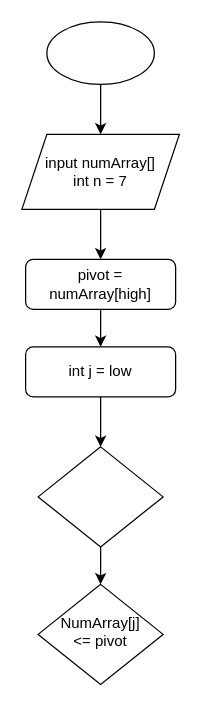
The diagram is 201 pixels wide and 706 high, and some of its shapes have lost their labels. The centre of each missing label's shape, as x and y in pixels:
"j <= high - 1" belongs at point (100, 496).
"start" belongs at point (100, 52).
